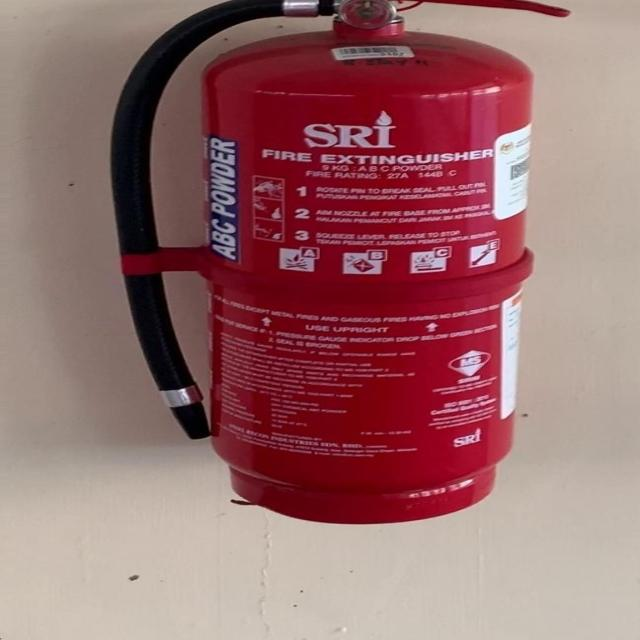fire_extinguisher: (100, 0, 578, 528)
